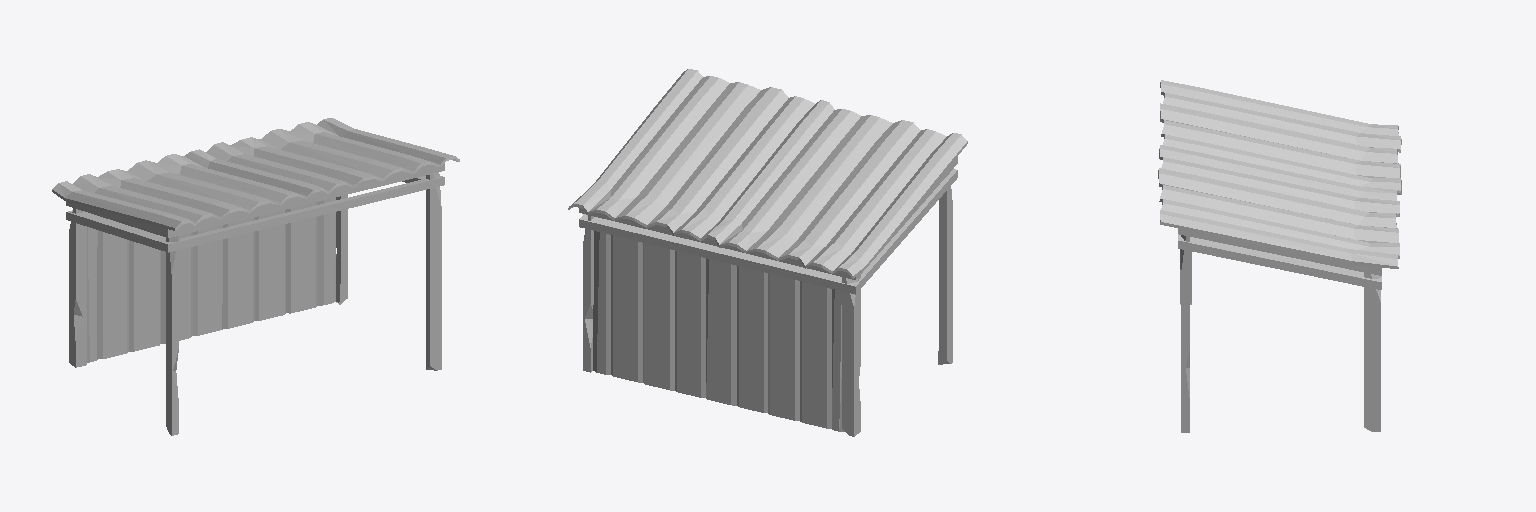
Rendered from SM_Bld_Shelter_01.obj.
3 views of the same model, side by side, from view 1: azimuth 30°, elevation 25°; view 2: azimuth 150°, elevation 25°; view 3: azimuth 270°, elevation 25° (orthographic).
Size of the model in its own units: 493 by 361 by 360.